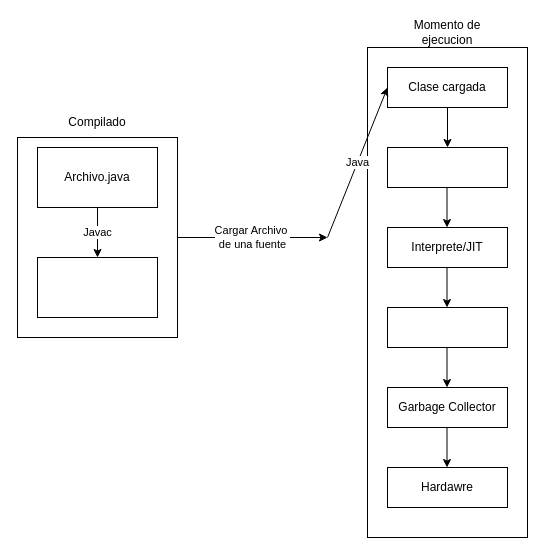
This 545x555 diagram has some shape labels left out. Each missing label, with the centre of its shape:
Archivo.class: the point at 97,287
Runtime Data Areas: the point at 447,327
Vereficar Bytecode: the point at 447,167
